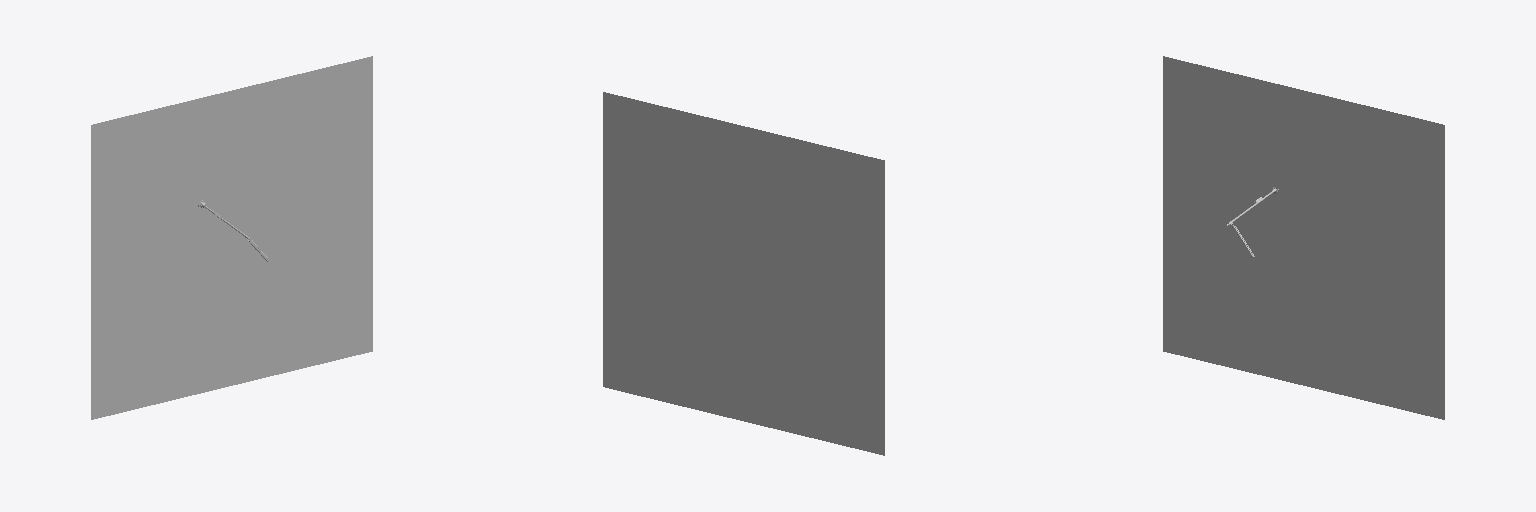
File: Lamp.obj
3 renders of one model, left to right at view 1: azimuth 30°, elevation 25°; view 2: azimuth 150°, elevation 25°; view 3: azimuth 330°, elevation 25°, orthographic.
Visible parts, largest first — view 1: Plane; view 2: Plane; view 3: Plane.
Boxes of the visible parts, box(x1,y1,x2,y2) form: Plane: box(91, 56, 372, 419); Plane: box(603, 92, 884, 455); Plane: box(1163, 56, 1444, 419).
Bounding box in the file's own units: 16.74 × 16.74 × 4.99.